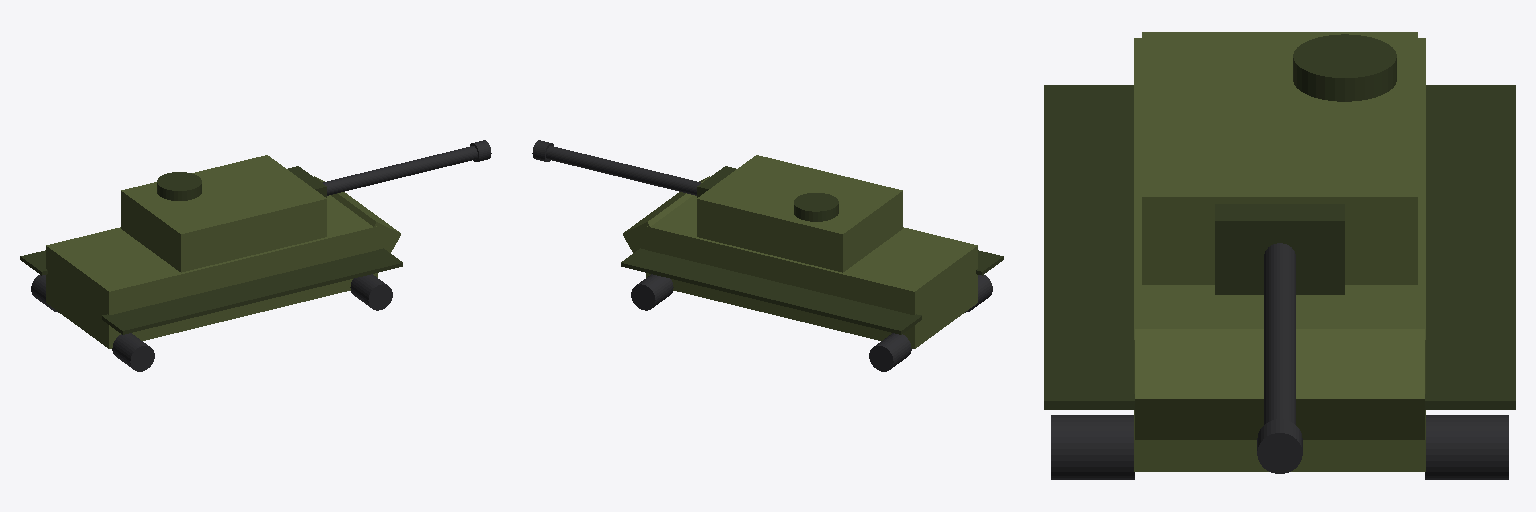
robot.urdf — tank:
<?xml version="1.0" ?>
<!--
A small tank: a 9 t hull on two tracks, a turret that turns on the hull ("turret", about z) and a gun
that elevates in the turret ("gun", about y; a negative angle raises the muzzle).

Each track is a belt wrapped around a driven sprocket at the rear, an idler at the front and three road
wheels; velocity control on "left_sprocket" and "right_sprocket" drives it, at 0.35 m/s per rad/s.
The muzzle is 3.2 m along the x axis of "gun_link".
-->
<robot name="tank">
  <material name="Armor">
    <color rgba="0.36 0.40 0.24 1.0"/>
  </material>
  <material name="DarkArmor">
    <color rgba="0.24 0.27 0.17 1.0"/>
  </material>
  <material name="Steel">
    <color rgba="0.22 0.22 0.23 1.0"/>
  </material>

  <link name="hull">
    <inertial>
      <mass value="9000"/>
      <origin xyz="0 0 0.45"/>
      <inertia ixx="3037.5" iyy="15127.5" izz="16950" ixy="0" ixz="0" iyz="0"/>
    </inertial>
    <visual>
      <origin xyz="0 0 0.45"/>
      <geometry>
        <box size="4.4 1.8 0.9"/>
      </geometry>
      <material name="Armor"/>
    </visual>
    <visual>
      <origin xyz="2.25 0 0.62" rpy="0 0.6 0"/>
      <geometry>
        <box size="0.5 1.78 0.5"/>
      </geometry>
      <material name="Armor"/>
    </visual>
    <visual>
      <origin xyz="0 1.15 0.5"/>
      <geometry>
        <box size="4.6 0.6 0.06"/>
      </geometry>
      <material name="DarkArmor"/>
    </visual>
    <visual>
      <origin xyz="0 -1.15 0.5"/>
      <geometry>
        <box size="4.6 0.6 0.06"/>
      </geometry>
      <material name="DarkArmor"/>
    </visual>
    <collision>
      <origin xyz="0 0 0.45"/>
      <geometry>
        <box size="4.4 1.8 0.9"/>
      </geometry>
    </collision>
  </link>

  <link name="left_sprocket_link">
    <inertial>
      <mass value="200"/>
      <origin xyz="0 0 0"/>
      <inertia ixx="10.3" iyy="12.25" izz="10.3" ixy="0" ixz="0" iyz="0"/>
    </inertial>
    <visual>
      <origin rpy="1.5708 0 0" xyz="0 0 0"/>
      <geometry>
        <cylinder length="0.52" radius="0.2"/>
      </geometry>
      <material name="Steel"/>
    </visual>
  </link>
  <joint name="left_sprocket" type="continuous">
    <parent link="hull"/>
    <child link="left_sprocket_link"/>
    <origin xyz="-1.95 1.15 0"/>
    <axis xyz="0 1 0"/>
  </joint>

  <link name="right_sprocket_link">
    <inertial>
      <mass value="200"/>
      <origin xyz="0 0 0"/>
      <inertia ixx="10.3" iyy="12.25" izz="10.3" ixy="0" ixz="0" iyz="0"/>
    </inertial>
    <visual>
      <origin rpy="1.5708 0 0" xyz="0 0 0"/>
      <geometry>
        <cylinder length="0.52" radius="0.2"/>
      </geometry>
      <material name="Steel"/>
    </visual>
  </link>
  <joint name="right_sprocket" type="continuous">
    <parent link="hull"/>
    <child link="right_sprocket_link"/>
    <origin xyz="-1.95 -1.15 0"/>
    <axis xyz="0 1 0"/>
  </joint>

  <link name="left_idler_link">
    <visual>
      <origin rpy="1.5708 0 0" xyz="0 0 0"/>
      <geometry>
        <cylinder length="0.52" radius="0.2"/>
      </geometry>
      <material name="Steel"/>
    </visual>
  </link>
  <joint name="left_idler" type="fixed">
    <parent link="hull"/>
    <child link="left_idler_link"/>
    <origin xyz="1.95 1.15 0.05"/>
  </joint>

  <link name="right_idler_link">
    <visual>
      <origin rpy="1.5708 0 0" xyz="0 0 0"/>
      <geometry>
        <cylinder length="0.52" radius="0.2"/>
      </geometry>
      <material name="Steel"/>
    </visual>
  </link>
  <joint name="right_idler" type="fixed">
    <parent link="hull"/>
    <child link="right_idler_link"/>
    <origin xyz="1.95 -1.15 0.05"/>
  </joint>

  <link name="turret_link">
    <inertial>
      <mass value="2500"/>
      <origin xyz="0 0 0.3"/>
      <inertia ixx="677" iyy="1275" izz="1802" ixy="0" ixz="0" iyz="0"/>
    </inertial>
    <visual>
      <origin xyz="0 0 0.3"/>
      <geometry>
        <box size="2.4 1.7 0.6"/>
      </geometry>
      <material name="Armor"/>
    </visual>
    <visual>
      <origin xyz="-0.5 0.4 0.68"/>
      <geometry>
        <cylinder length="0.16" radius="0.32"/>
      </geometry>
      <material name="DarkArmor"/>
    </visual>
    <collision>
      <origin xyz="0 0 0.3"/>
      <geometry>
        <box size="2.4 1.7 0.6"/>
      </geometry>
    </collision>
  </link>
  <joint name="turret" type="continuous">
    <parent link="hull"/>
    <child link="turret_link"/>
    <origin xyz="0.2 0 0.9"/>
    <axis xyz="0 0 1"/>
  </joint>

  <link name="gun_link">
    <inertial>
      <mass value="600"/>
      <origin xyz="1.3 0 0"/>
      <inertia ixx="3" iyy="600" izz="600" ixy="0" ixz="0" iyz="0"/>
    </inertial>
    <visual>
      <origin xyz="0.1 0 0"/>
      <geometry>
        <box size="0.5 0.8 0.5"/>
      </geometry>
      <material name="DarkArmor"/>
    </visual>
    <visual>
      <origin xyz="1.7 0 0" rpy="0 1.5708 0"/>
      <geometry>
        <cylinder length="3.0" radius="0.1"/>
      </geometry>
      <material name="Steel"/>
    </visual>
    <visual>
      <origin xyz="3.1 0 0" rpy="0 1.5708 0"/>
      <geometry>
        <cylinder length="0.2" radius="0.14"/>
      </geometry>
      <material name="Steel"/>
    </visual>
    <collision>
      <origin xyz="1.7 0 0" rpy="0 1.5708 0"/>
      <geometry>
        <cylinder length="3.0" radius="0.1"/>
      </geometry>
    </collision>
  </link>
  <joint name="gun" type="revolute">
    <parent link="turret_link"/>
    <child link="gun_link"/>
    <origin xyz="1.1 0 0.3"/>
    <axis xyz="0 1 0"/>
    <limit lower="-0.35" upper="0.15" effort="1e6" velocity="2"/>
  </joint>

  <track name="left" link="hull" width="0.5" thickness="0.06" color="0.12 0.12 0.12 1">
    <axis xyz="0 1 0"/>
    <wheel joint="left_sprocket" radius="0.35"/>
    <wheel joint="left_idler" radius="0.35"/>
    <wheel xyz="-1.0 1.15 -0.1" radius="0.3"/>
    <wheel xyz="0 1.15 -0.1" radius="0.3"/>
    <wheel xyz="1.0 1.15 -0.1" radius="0.3"/>
    <drive joint="left_sprocket" gain="0.35"/>
  </track>
  <track name="right" link="hull" width="0.5" thickness="0.06" color="0.12 0.12 0.12 1">
    <axis xyz="0 1 0"/>
    <wheel joint="right_sprocket" radius="0.35"/>
    <wheel joint="right_idler" radius="0.35"/>
    <wheel xyz="-1.0 -1.15 -0.1" radius="0.3"/>
    <wheel xyz="0 -1.15 -0.1" radius="0.3"/>
    <wheel xyz="1.0 -1.15 -0.1" radius="0.3"/>
    <drive joint="right_sprocket" gain="0.35"/>
  </track>
</robot>

--- What the picture shows (computed from the rendered views, not written in the file) ---
The picture shows the robot from 3 angles, left to right: view 1: azimuth 30°, elevation 25°; view 2: azimuth 150°, elevation 25°; view 3: azimuth 270°, elevation 25°; orthographic projection.
Robot: tank — 7 links, 6 joints (1 revolute, 3 continuous, 2 fixed); root link hull; default pose: all joints at 0.
Visible links, largest first — view 1: hull, turret_link, gun_link, right_sprocket_link, right_idler_link; view 2: hull, turret_link, gun_link, left_sprocket_link, left_idler_link; view 3: hull, turret_link, gun_link, left_idler_link, right_idler_link.
Link boxes in pixels (x1,y1,x2,y2): hull: (20,176,402,348); turret_link: (121,155,326,272); gun_link: (288,140,491,197); right_sprocket_link: (112,333,154,371); right_idler_link: (350,274,392,310); hull: (621,176,1003,348); turret_link: (697,155,902,272); gun_link: (532,140,735,197); left_sprocket_link: (869,333,911,371); left_idler_link: (631,274,673,310); hull: (1044,38,1515,471); turret_link: (1142,32,1417,284); gun_link: (1215,204,1344,473); left_idler_link: (1425,415,1508,479); right_idler_link: (1051,415,1134,479).
Bounding box of the posed robot: 6.8 × 2.9 × 1.86 m (x, y, z).
Geometry: primitives only (box / cylinder / sphere), no mesh files.
